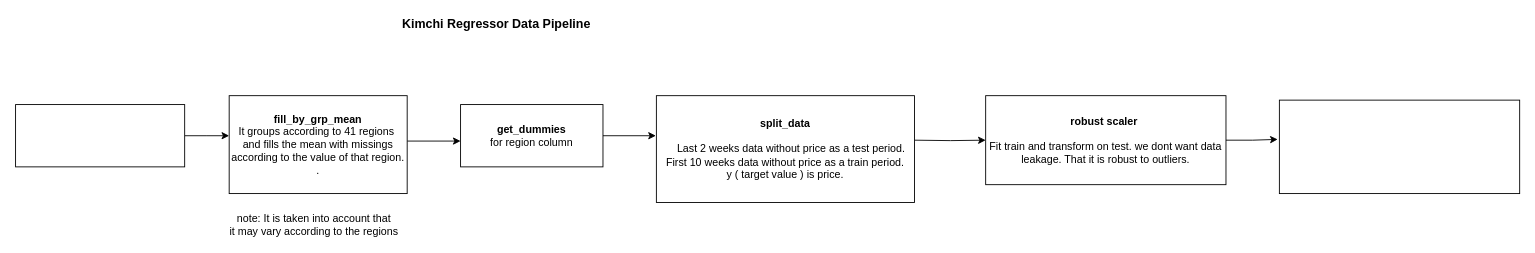
The diagram is 1535 pixels wide and 253 high, and some of its shapes have lost their labels. The centre of each missing label's shape, as x and y in pixels:
get_date_features It creates day & month column: point (100, 135)
prediction w/ mlp regressor run mlp model and get score & results.: point (1399, 146)
